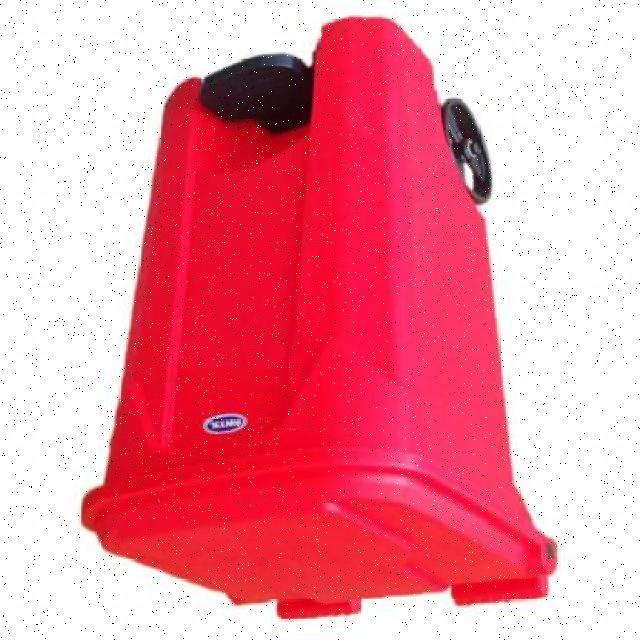garbage container: (68, 16, 577, 629)
